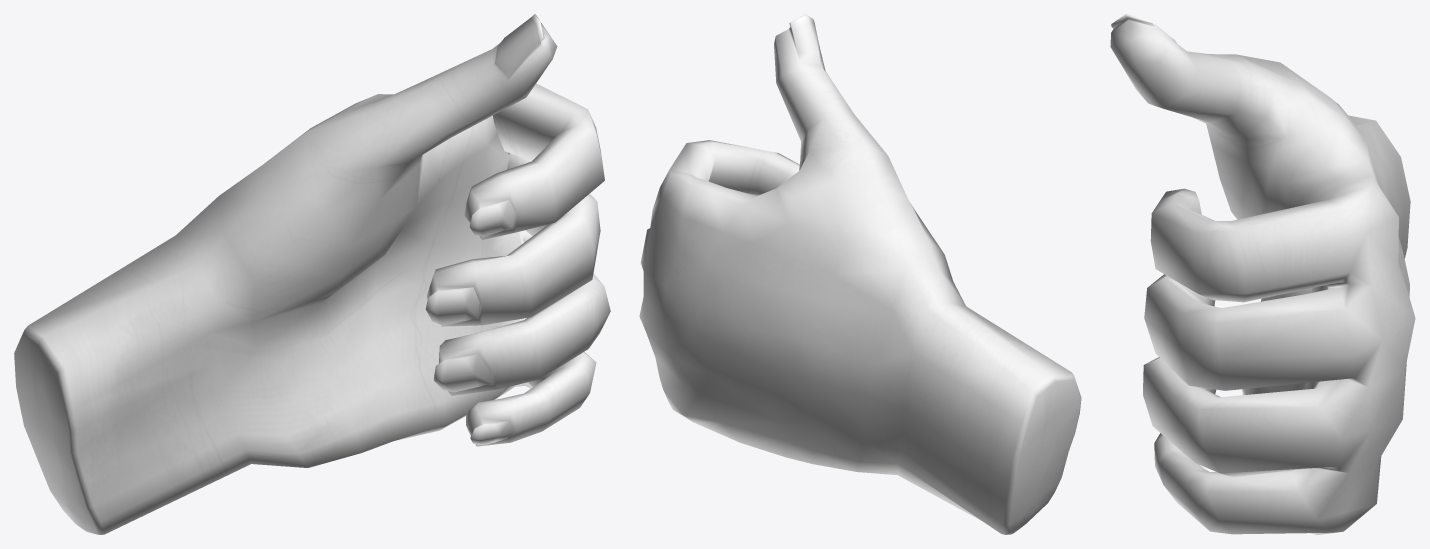
The model's file is l_smooth_hold.glb.
The picture shows the model from 3 angles, left to right: view 1: azimuth 30°, elevation 25°; view 2: azimuth 150°, elevation 25°; view 3: azimuth 270°, elevation 25°; orthographic projection. The views are drawn at different scales.
Visible parts, largest first — view 1: L_Smooth_Hold; view 2: L_Smooth_Hold; view 3: L_Smooth_Hold.
Boxes of the visible parts, x1=… form: L_Smooth_Hold: x1=14, y1=14, x2=610, y2=534; L_Smooth_Hold: x1=639, y1=14, x2=1081, y2=534; L_Smooth_Hold: x1=1110, y1=14, x2=1415, y2=534.
Bounding box in the file's own units: 0.168 × 0.1502 × 0.0771.
Materials: 1 (1 with a texture image).
